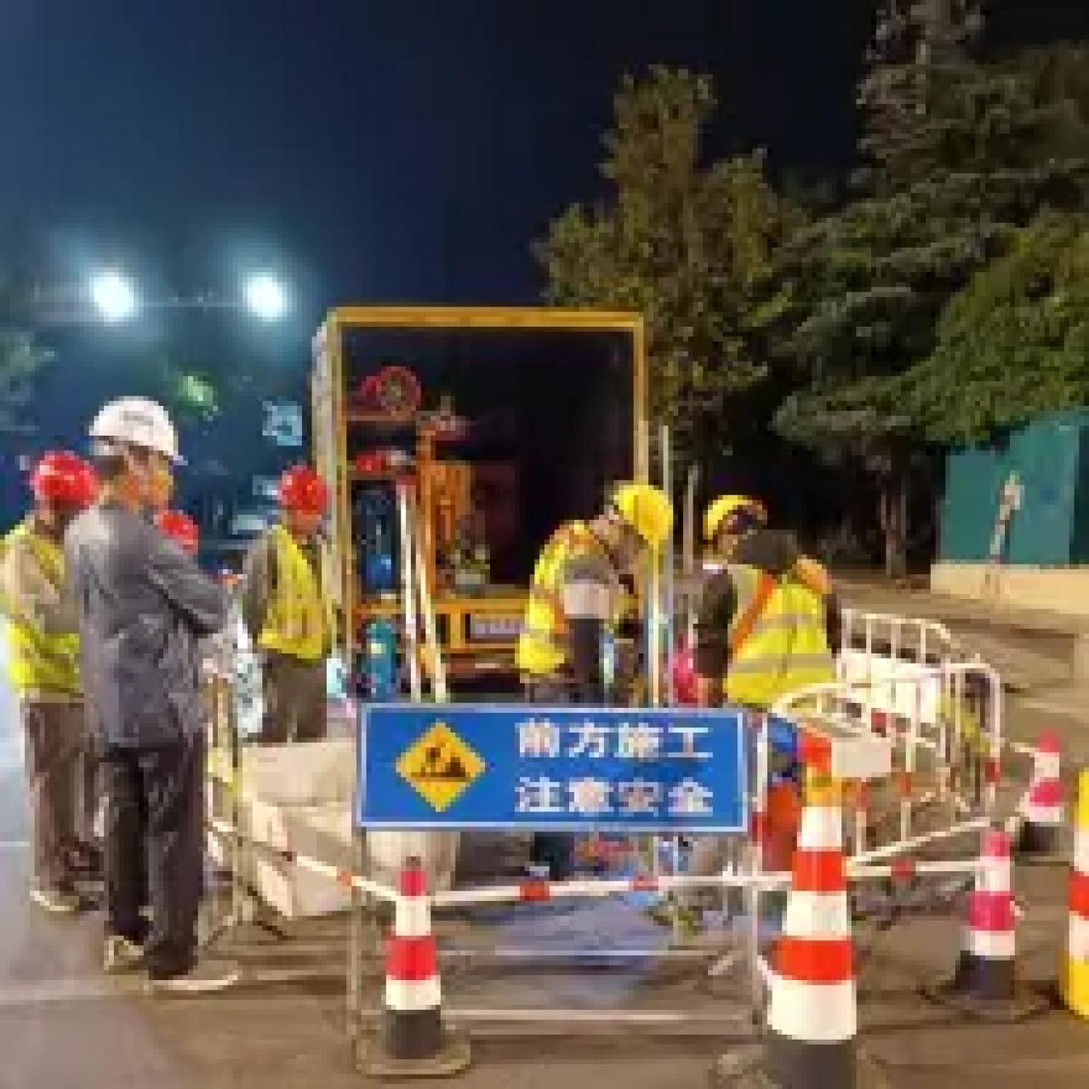NO_Safety_Vest: (76, 506, 198, 744)
Person: (53, 383, 238, 981), (678, 478, 859, 764), (0, 443, 99, 914), (511, 460, 681, 704), (240, 469, 347, 743)
Safety_Vest: (722, 553, 837, 706), (519, 526, 622, 683), (4, 520, 83, 683), (258, 525, 335, 670)
